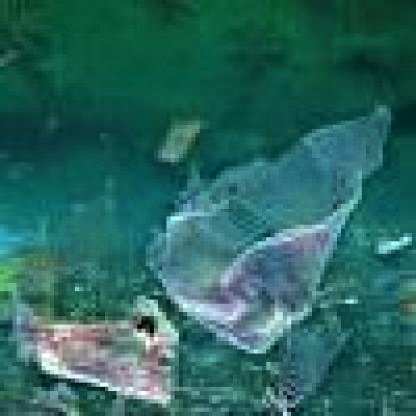pbag: (141, 100, 391, 358), (4, 291, 183, 412)
